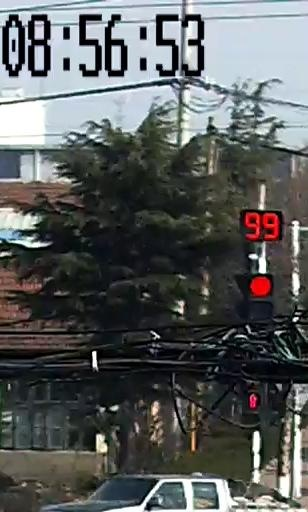red: (245, 270, 275, 299)
redpeople: (242, 393, 268, 414)
redtime: (246, 211, 280, 242)
